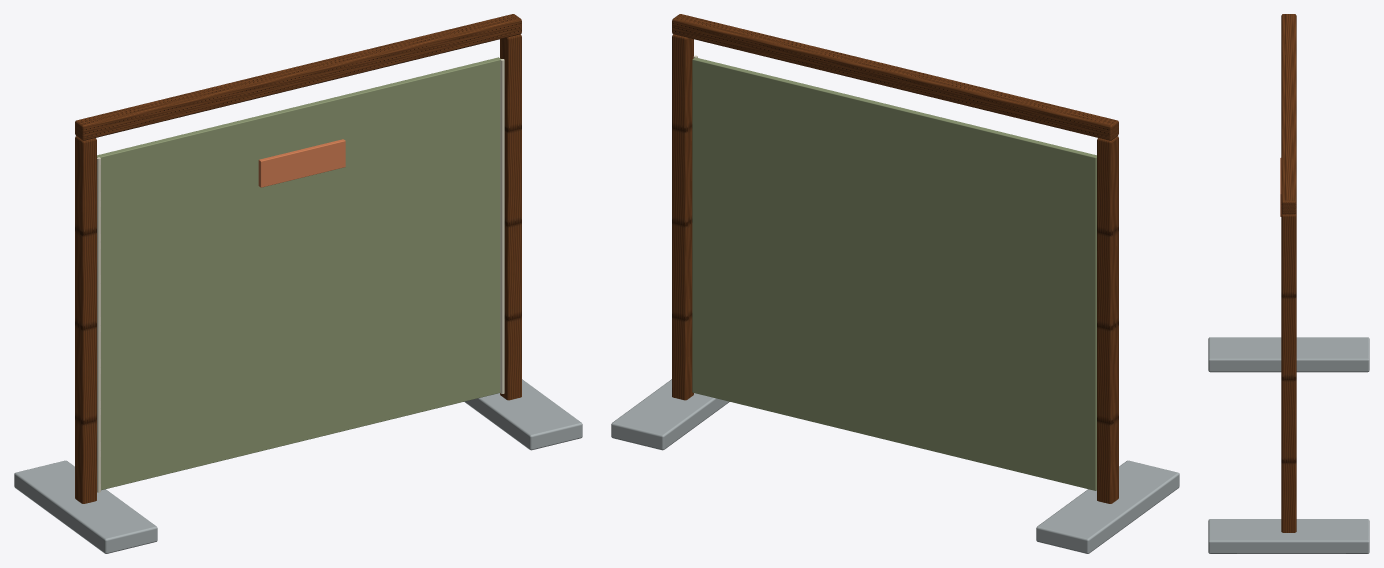
File: creature-husbandry-and-transport-quarantine-divider-75e71763__23992.glb
3 renders of one model, left to right at view 1: azimuth 30°, elevation 25°; view 2: azimuth 150°, elevation 25°; view 3: azimuth 270°, elevation 25°, orthographic. The views are drawn at different scales.
Visible parts, largest first — view 1: quarantine-divider; view 2: quarantine-divider; view 3: quarantine-divider.
Boxes of the visible parts, x1,y1,x2,y2 form: quarantine-divider: (14,14,582,553); quarantine-divider: (611,14,1179,553); quarantine-divider: (1208,14,1369,553).
Bounding box in the file's own units: 2.25 × 1.77 × 0.7499.
Materials: 5 (1 with a texture image).
